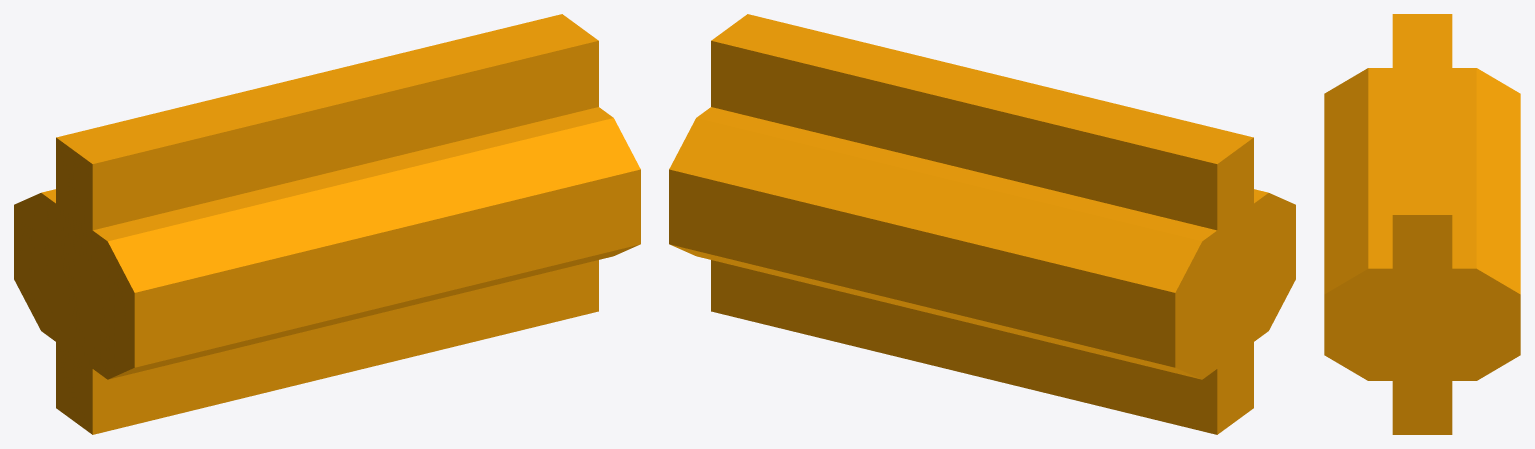
3 renders of one model, left to right at view 1: azimuth 30°, elevation 25°; view 2: azimuth 150°, elevation 25°; view 3: azimuth 270°, elevation 25°, orthographic. The views are drawn at different scales.
Visible parts, largest first — view 1: peca; view 2: peca; view 3: peca.
Boxes of the visible parts, bbox=[...] form: peca: bbox=[14, 14, 640, 434]; peca: bbox=[669, 14, 1295, 434]; peca: bbox=[1324, 14, 1520, 434].
Bounding box in the file's own units: 1.7 × 0.8714 × 0.7032.
